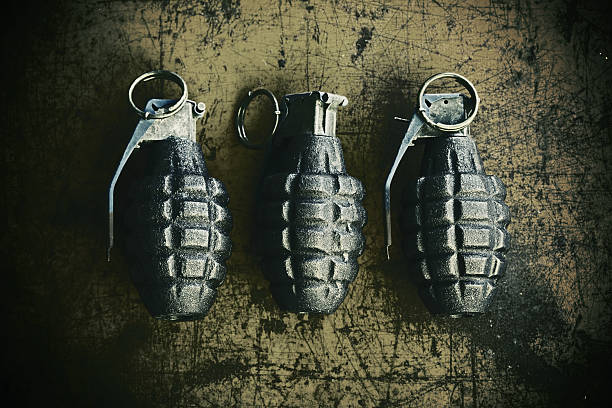e1: (104, 74, 231, 327), (384, 72, 508, 321), (237, 88, 366, 316)
